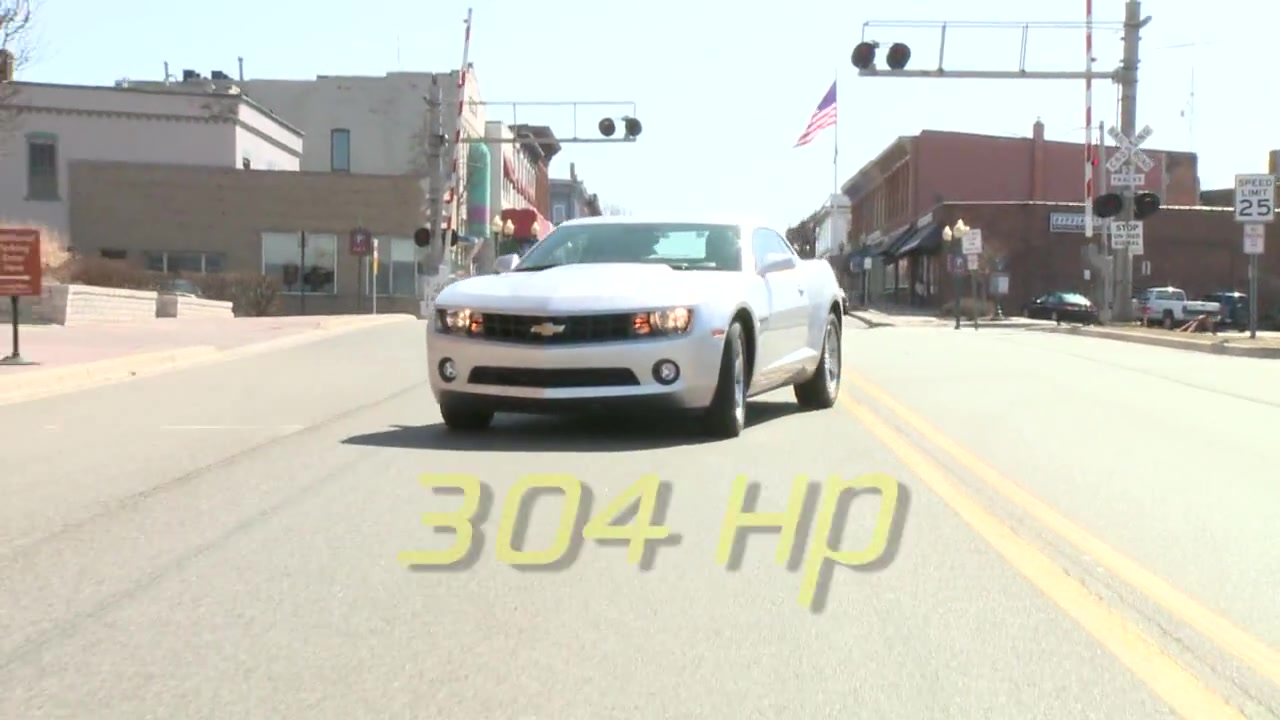car: (421, 222, 851, 450)
